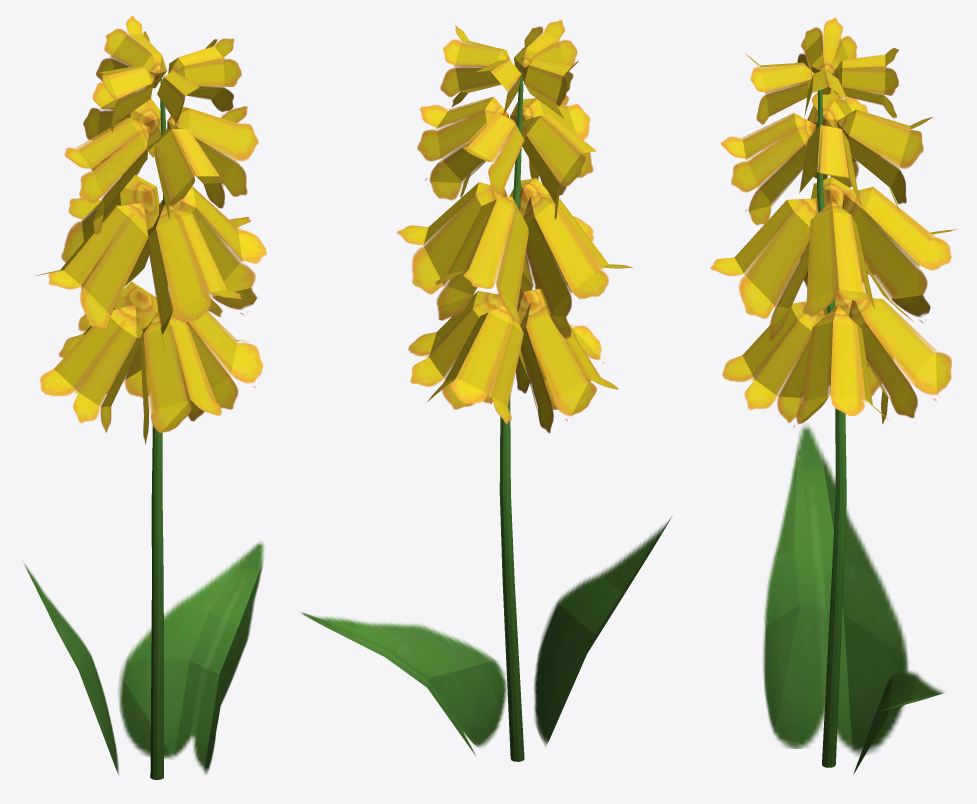
Rendered from flowerSingle.glb.
3 renders of one model, left to right at view 1: azimuth 30°, elevation 25°; view 2: azimuth 150°, elevation 25°; view 3: azimuth 270°, elevation 25°, orthographic.
Visible parts, largest first — view 1: Flower_4_Single; view 2: Flower_4_Single; view 3: Flower_4_Single.
Boxes of the visible parts, bbox=[...] form: Flower_4_Single: bbox=[23, 15, 266, 779]; Flower_4_Single: bbox=[300, 20, 671, 761]; Flower_4_Single: bbox=[710, 17, 956, 774].
Bounding box in the file's own units: 1.07 × 2.42 × 0.7729.
Materials: 2 (2 with a texture image).
